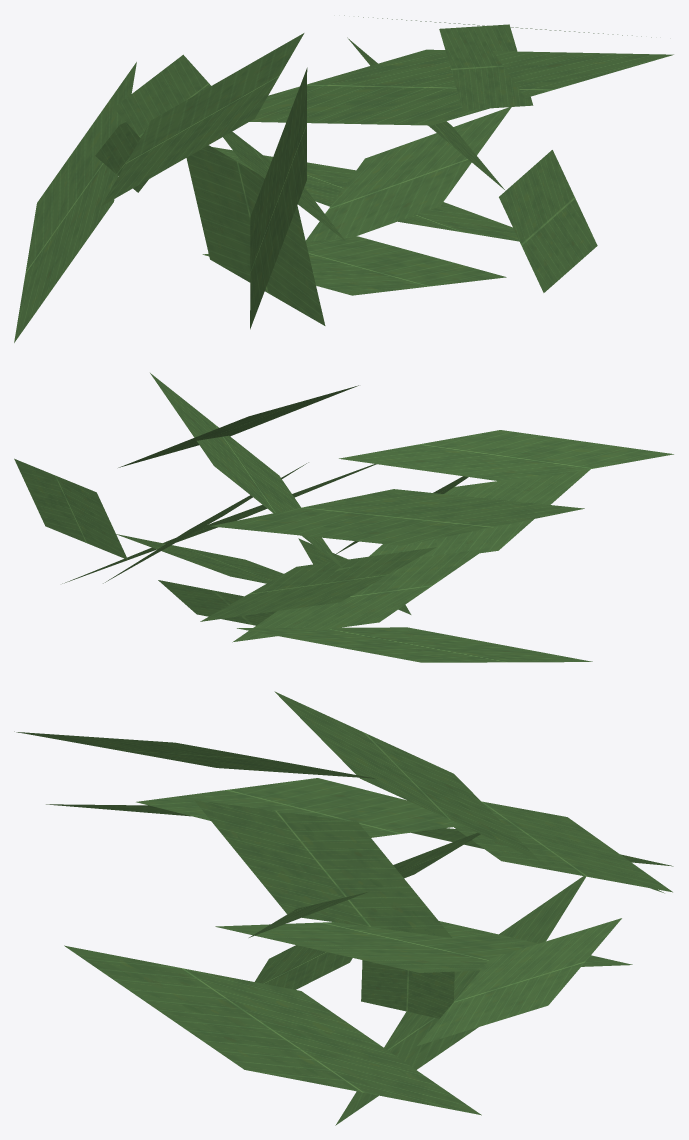
File: en-013_cliff_edge_grass_set__dense.obj
3 views of the same model, one above another, from view 1: azimuth 30°, elevation 25°; view 2: azimuth 150°, elevation 25°; view 3: azimuth 270°, elevation 25° (orthographic). The views are drawn at different scales.
Visible parts, largest first — view 1: en-013_cliff_edge_grass_set__dense; view 2: en-013_cliff_edge_grass_set__dense; view 3: en-013_cliff_edge_grass_set__dense.
Boxes of the visible parts, x1,y1,x2,y2 form: en-013_cliff_edge_grass_set__dense: [14, 15, 673, 342]; en-013_cliff_edge_grass_set__dense: [14, 373, 673, 662]; en-013_cliff_edge_grass_set__dense: [14, 691, 673, 1125].
Size of the model in its own units: 1.99 by 0.6675 by 1.65.
1 material, 1 textured.
